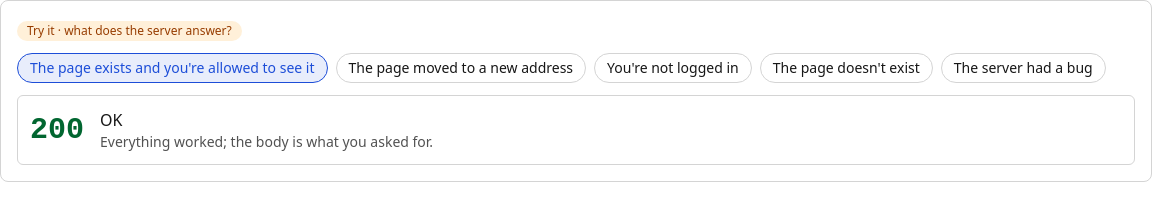
TryIt › answers each situation with its status code
Check: the text "200" is shown, box left=30, top=112, right=84, bottom=148
Click the button "The page doesn't exist" at (846, 68), box left=760, top=53, right=933, bottom=83
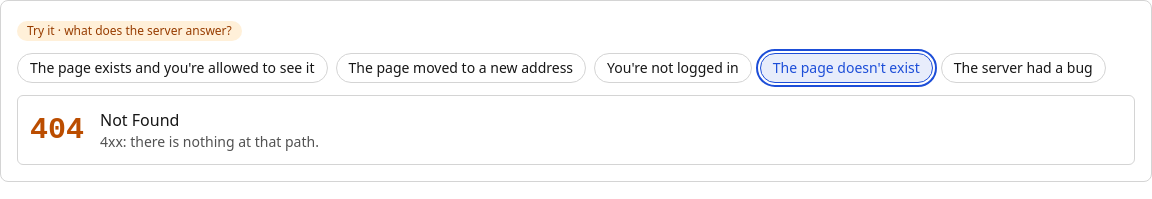
Check: the text "404" is shown, box left=30, top=112, right=84, bottom=148
Check: the text "Not Found" is shown, box left=100, top=109, right=179, bottom=131
